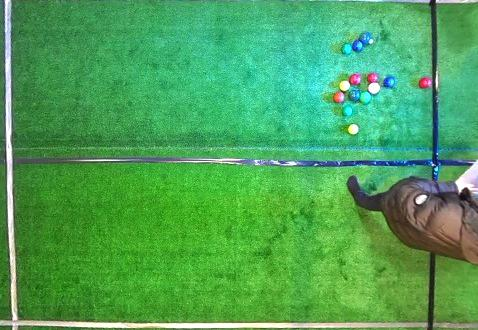blue: (383, 77, 395, 88), (352, 40, 363, 51)
green: (360, 91, 371, 103), (348, 90, 360, 101), (360, 33, 371, 44), (341, 44, 352, 54), (342, 106, 352, 116)
red: (367, 83, 381, 94), (349, 74, 361, 85), (333, 92, 345, 103), (419, 78, 431, 88), (367, 73, 378, 83)
vline: (431, 1, 477, 180), (0, 1, 21, 329), (427, 252, 478, 329)
white: (369, 39, 373, 44)
yellow: (348, 124, 359, 134), (340, 81, 350, 91)
